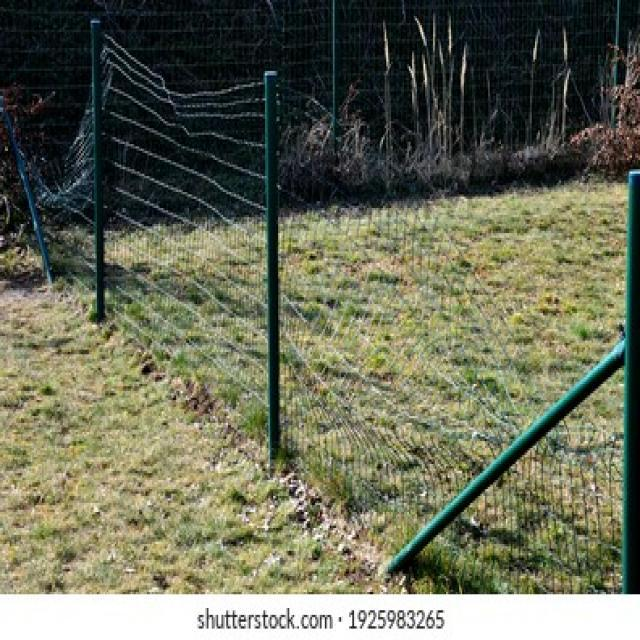fence line: (405, 153, 640, 541), (13, 59, 98, 279), (109, 54, 264, 166)
